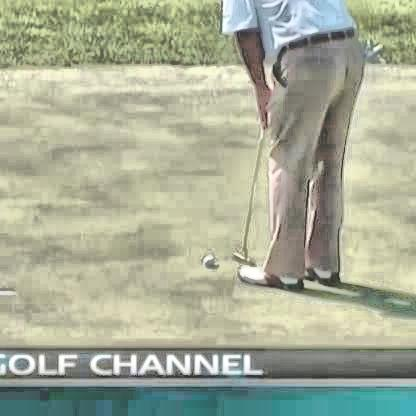golfball: (199, 251, 215, 267)
